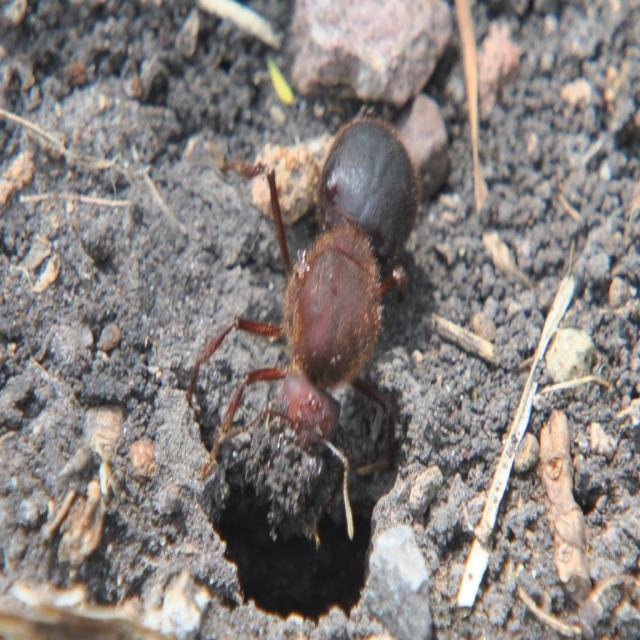Alive-Female-Dealate: (185, 115, 422, 540)
